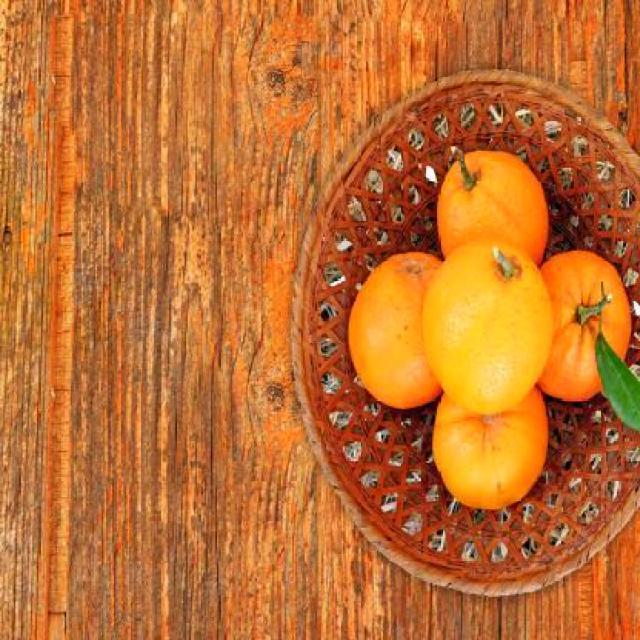Jeruk Sudah Matang: (420, 234, 554, 410), (350, 250, 466, 413), (433, 352, 550, 505), (530, 246, 632, 408), (437, 149, 545, 291)
